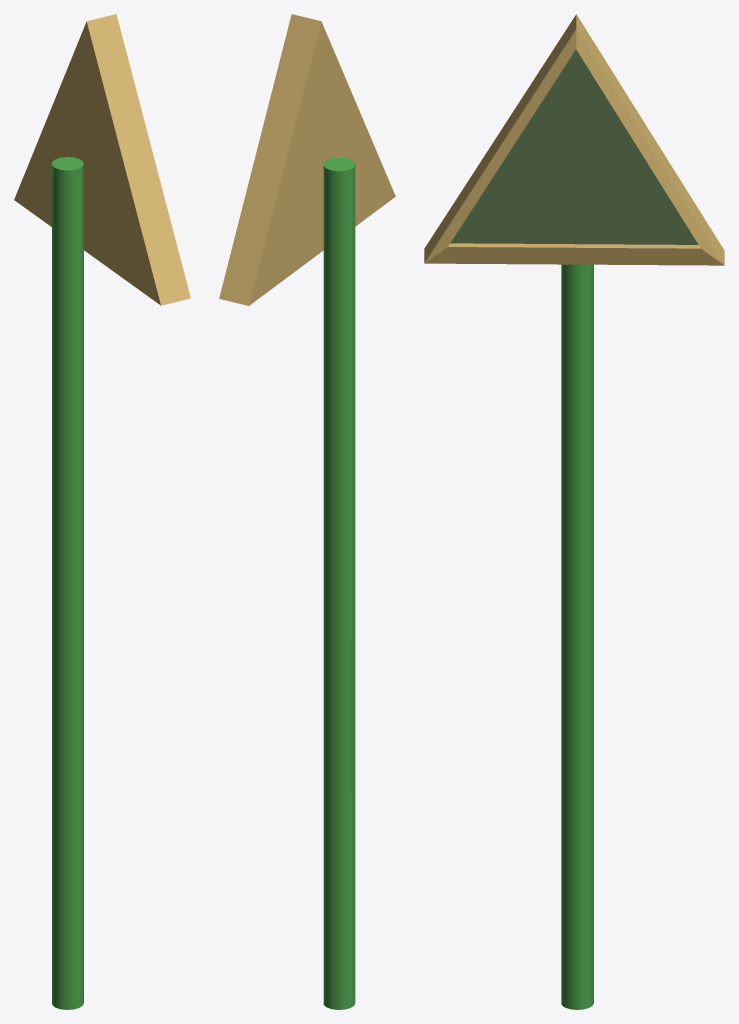
File: RoadSign_05.fbx
The picture shows the model from 3 angles, left to right: view 1: azimuth 30°, elevation 25°; view 2: azimuth 150°, elevation 25°; view 3: azimuth 270°, elevation 25°; orthographic projection. The views are drawn at different scales.
Visible parts, largest first — view 1: hazard_signs_w__ext; view 2: hazard_signs_w__ext; view 3: hazard_signs_w__ext.
Part boxes in pixels (box(x1,y1,x2,y2)): hazard_signs_w__ext: box(14, 14, 190, 1009); hazard_signs_w__ext: box(219, 14, 395, 1009); hazard_signs_w__ext: box(424, 14, 724, 1009).
Bounding box in the file's own units: 0.1356 × 1.93 × 0.5275.
Materials: 1 (1 with a texture image).
